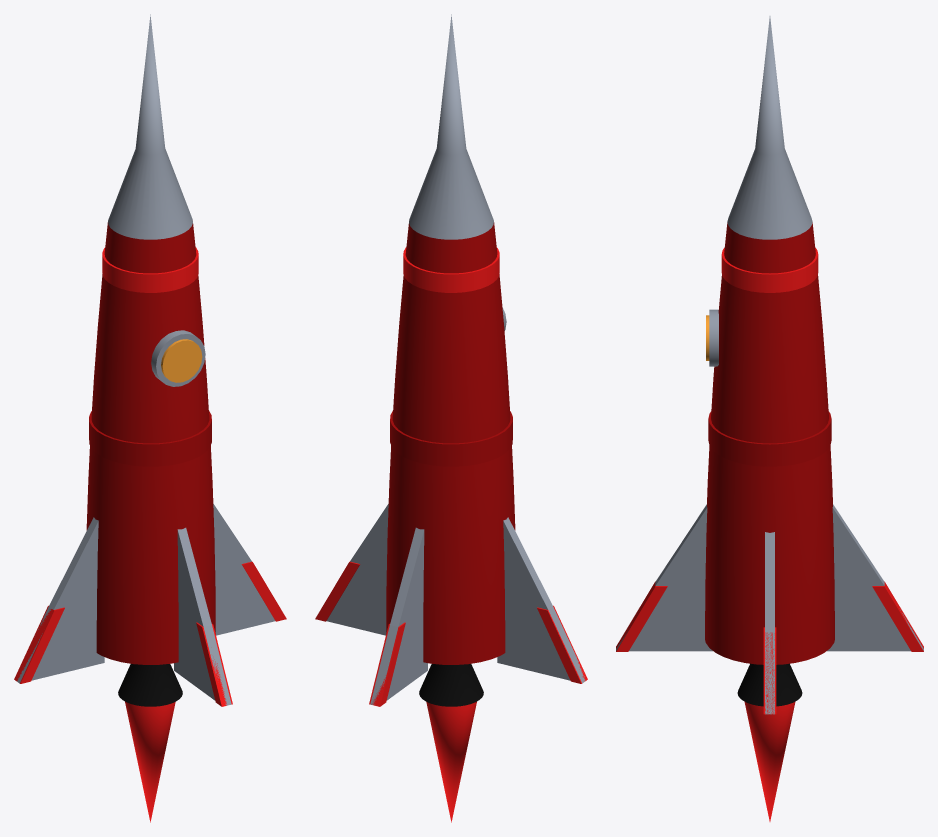
Rendered from Rocket_28_ScarletSpear.obj.
3 renders of one model, left to right at view 1: azimuth 30°, elevation 25°; view 2: azimuth 150°, elevation 25°; view 3: azimuth 270°, elevation 25°, orthographic.
Parts seen in each view (by area): view 1: R28_Body, R28_Nose, R28_Fin_2, R28_Fin_3, R28_Fin_4, R28_Band_1, R28_Flame_1, R28_Nozzle_1, R28_Band_2, R28_Window_1, R28_FinGlow_2, R28_WindowFrame_1 (+2 smaller); view 2: R28_Body, R28_Nose, R28_Fin_2, R28_Fin_1, R28_Fin_4, R28_Band_1, R28_Flame_1, R28_Nozzle_1, R28_Band_2, R28_FinGlow_2, R28_FinGlow_1, R28_FinGlow_4; view 3: R28_Body, R28_Nose, R28_Fin_1, R28_Fin_3, R28_Band_1, R28_Flame_1, R28_Band_2, R28_Fin_4, R28_Nozzle_1, R28_FinGlow_3, R28_FinGlow_1, R28_FinGlow_4 (+1 smaller).
Boxes of the visible parts, x1=… form: R28_Body: x1=86, y1=222, x2=215, y2=664; R28_Nose: x1=108, y1=14, x2=192, y2=239; R28_Fin_2: x1=17, y1=517, x2=104, y2=683; R28_Fin_3: x1=174, y1=527, x2=231, y2=705; R28_Fin_4: x1=213, y1=504, x2=275, y2=635; R28_Band_1: x1=89, y1=411, x2=211, y2=466; R28_Flame_1: x1=125, y1=701, x2=175, y2=822; R28_Nozzle_1: x1=118, y1=664, x2=182, y2=706; R28_Band_2: x1=102, y1=247, x2=198, y2=292; R28_Window_1: x1=161, y1=339, x2=202, y2=382; R28_FinGlow_2: x1=14, y1=605, x2=64, y2=683; R28_WindowFrame_1: x1=151, y1=330, x2=205, y2=386; R28_Body: x1=386, y1=222, x2=515, y2=664; R28_Nose: x1=409, y1=14, x2=493, y2=239; R28_Fin_2: x1=497, y1=517, x2=585, y2=683; R28_Fin_1: x1=370, y1=527, x2=427, y2=704; R28_Fin_4: x1=326, y1=504, x2=388, y2=635; R28_Band_1: x1=390, y1=411, x2=512, y2=466; R28_Flame_1: x1=426, y1=701, x2=476, y2=822; R28_Nozzle_1: x1=419, y1=664, x2=483, y2=706; R28_Band_2: x1=403, y1=247, x2=499, y2=292; R28_FinGlow_2: x1=537, y1=605, x2=587, y2=683; R28_FinGlow_1: x1=369, y1=622, x2=405, y2=706; R28_FinGlow_4: x1=315, y1=561, x2=360, y2=621; R28_Body: x1=705, y1=222, x2=834, y2=664; R28_Nose: x1=727, y1=16, x2=812, y2=239; R28_Fin_1: x1=827, y1=504, x2=923, y2=651; R28_Fin_3: x1=616, y1=504, x2=712, y2=651; R28_Band_1: x1=708, y1=411, x2=831, y2=466; R28_Flame_1: x1=744, y1=701, x2=795, y2=821; R28_Band_2: x1=721, y1=248, x2=818, y2=292; R28_Fin_4: x1=765, y1=532, x2=774, y2=714; R28_Nozzle_1: x1=737, y1=663, x2=802, y2=706; R28_FinGlow_3: x1=616, y1=581, x2=667, y2=651; R28_FinGlow_1: x1=872, y1=581, x2=923, y2=651; R28_FinGlow_4: x1=763, y1=627, x2=776, y2=714.
Size of the model in its own units: 3.76 by 10.9 by 3.76.
